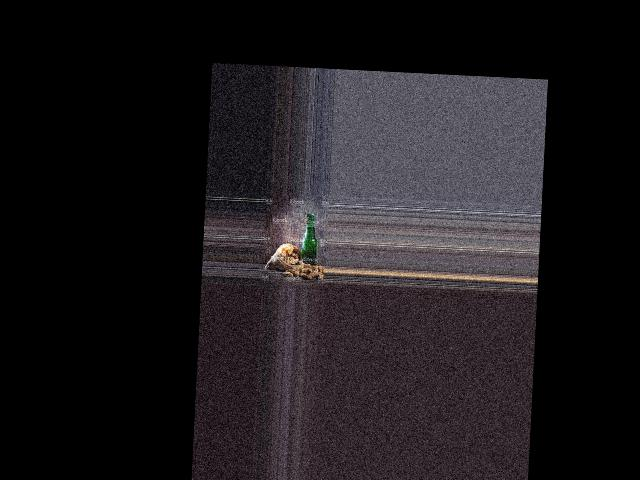beer: (300, 212, 319, 269)
